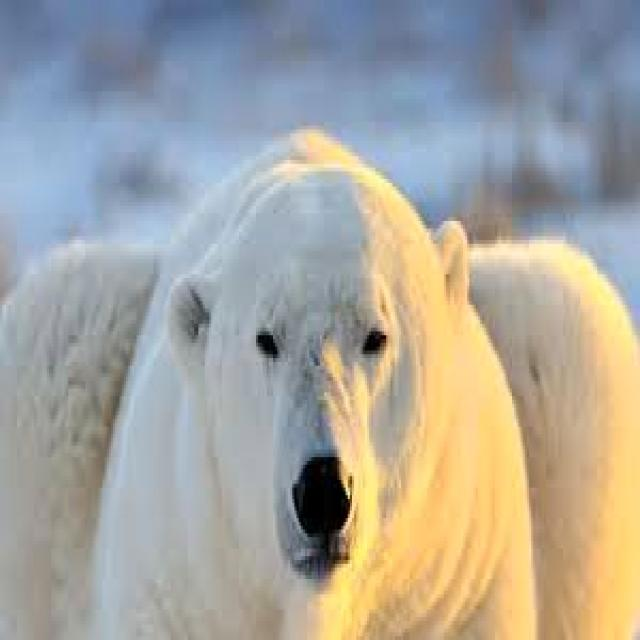bear: (0, 130, 638, 636)
